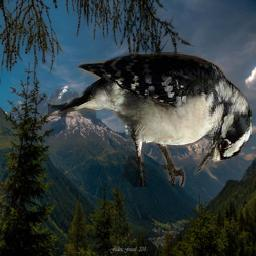Woodpecker: (48, 53, 252, 188)
